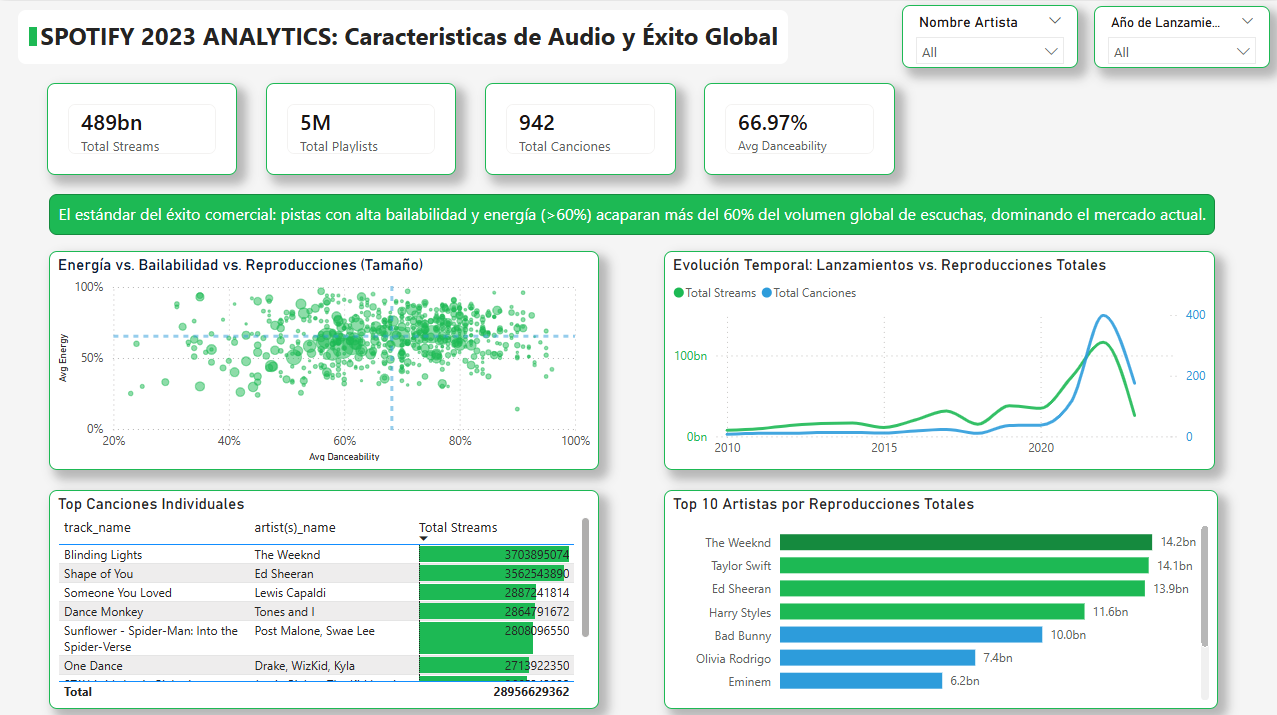

The page's visual inventory and layout, read from the dashboard file:
{"tool":"powerbi","page":{"name":"Page 1","canvas":[1280,720],"ordinal":0},"visuals":[{"type":"textbox","box":[18.4,8.8,770.3,54.5],"z":0,"group":"g1"},{"type":"cardVisual","fields":{"Data":["_Medidas.Total Streams"]},"box":[46.7,81.7,190.6,92.4],"z":0},{"type":"cardVisual","fields":{"Data":["_Medidas.Total Playlists"]},"box":[265.5,81.7,190.6,92.4],"z":1000},{"type":"cardVisual","fields":{"Data":["_Medidas.Total Canciones"]},"box":[485.3,81.7,190.6,92.4],"z":2000},{"type":"cardVisual","fields":{"Data":["_Medidas.Avg Danceability"]},"box":[704.2,81.7,190.6,92.4],"z":3000},{"type":"clusteredBarChart","title":"Top 10 Artistas por Reproducciones Totales","fields":{"Category":["Analisis_Energia.artist(s)_name"],"Y":["_Medidas.Total Streams"]},"box":[664.3,489.2,553.4,218.8],"z":4000},{"type":"tableEx","title":"Top Canciones Individuales","fields":{"Values":["Fact_Canciones.track_name","Fact_Canciones.artist(s)_name","_Medidas.Total Streams"]},"box":[48.6,489.2,550.5,218.8],"z":5000},{"type":"slicer","fields":{"Values":["Fact_Canciones.released_year"]},"box":[1094.2,4.9,176,62.2],"z":6000},{"type":"slicer","fields":{"Values":["Fact_Canciones.artist(s)_name"]},"box":[901.6,3.9,176,63.2],"z":7000},{"type":"scatterChart","title":"Energía vs. Bailabilidad vs. Reproducciones (Tamaño)","fields":{"X":["_Medidas.Avg Danceability"],"Size":["_Medidas.Total Streams"],"Y":["_Medidas.Avg Energy"],"Category":["Analisis_Energia.artist(s)_name"]},"box":[48.6,250,550.5,218.8],"z":8000},{"type":"lineChart","title":"Evolución Temporal: Lanzamientos vs. Reproducciones Totales","fields":{"Category":["Fact_Canciones.released_year"],"Y2":["_Medidas.Total Canciones"],"Y":["_Medidas.Total Streams"]},"box":[664.3,250,550.5,218.8],"z":9000},{"type":"textbox","box":[48.6,192.6,1166.2,41.8],"z":10000},{"type":"group","id":"g1","title":"Group 1","box":[13.3,8.8,775.5,54.5],"z":11000},{"type":"shape","box":[13.3,25.6,40,19.4],"z":11001,"group":"g1"}]}

Visuals, with their boxes in screenshot pixels (x1, y1, x2, y2), scaled from the page's 1280x720 canvas onto the 1277x715 screenshot:
textbox: (18,9,787,63)
cardVisual - _Medidas.Total Streams: (47,81,237,173)
cardVisual - _Medidas.Total Playlists: (265,81,455,173)
cardVisual - _Medidas.Total Canciones: (484,81,674,173)
cardVisual - _Medidas.Avg Danceability: (703,81,893,173)
"Top 10 Artistas por Reproducciones Totales" clusteredBarChart: (663,486,1215,703)
"Top Canciones Individuales" tableEx: (48,486,598,703)
slicer - Fact_Canciones.released_year: (1092,5,1267,67)
slicer - Fact_Canciones.artist(s)_name: (899,4,1075,67)
"Energía vs. Bailabilidad vs. Reproducciones (Tamaño)" scatterChart: (48,248,598,466)
"Evolución Temporal: Lanzamientos vs. Reproducciones Totales" lineChart: (663,248,1212,466)
textbox: (48,191,1212,233)
"Group 1" group: (13,9,787,63)
shape: (13,25,53,45)
